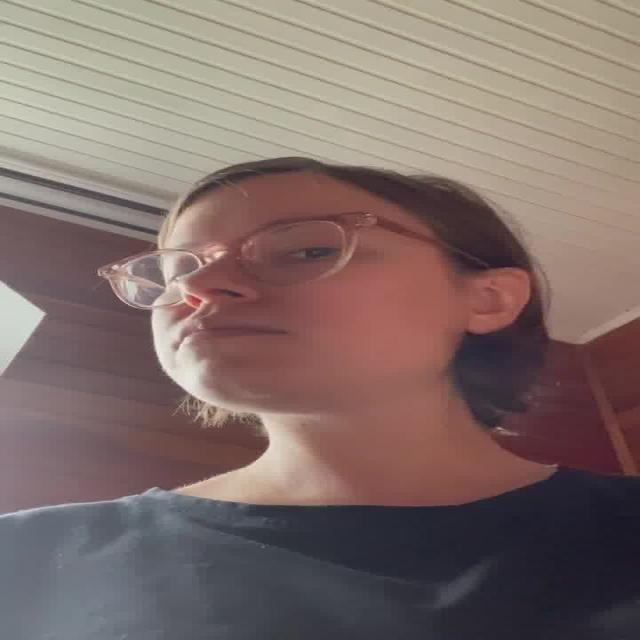earlobe: (460, 313, 500, 335)
eye: (282, 243, 339, 260), (157, 268, 201, 283)
nose: (189, 302, 246, 319)
wholeear: (460, 267, 530, 335)
